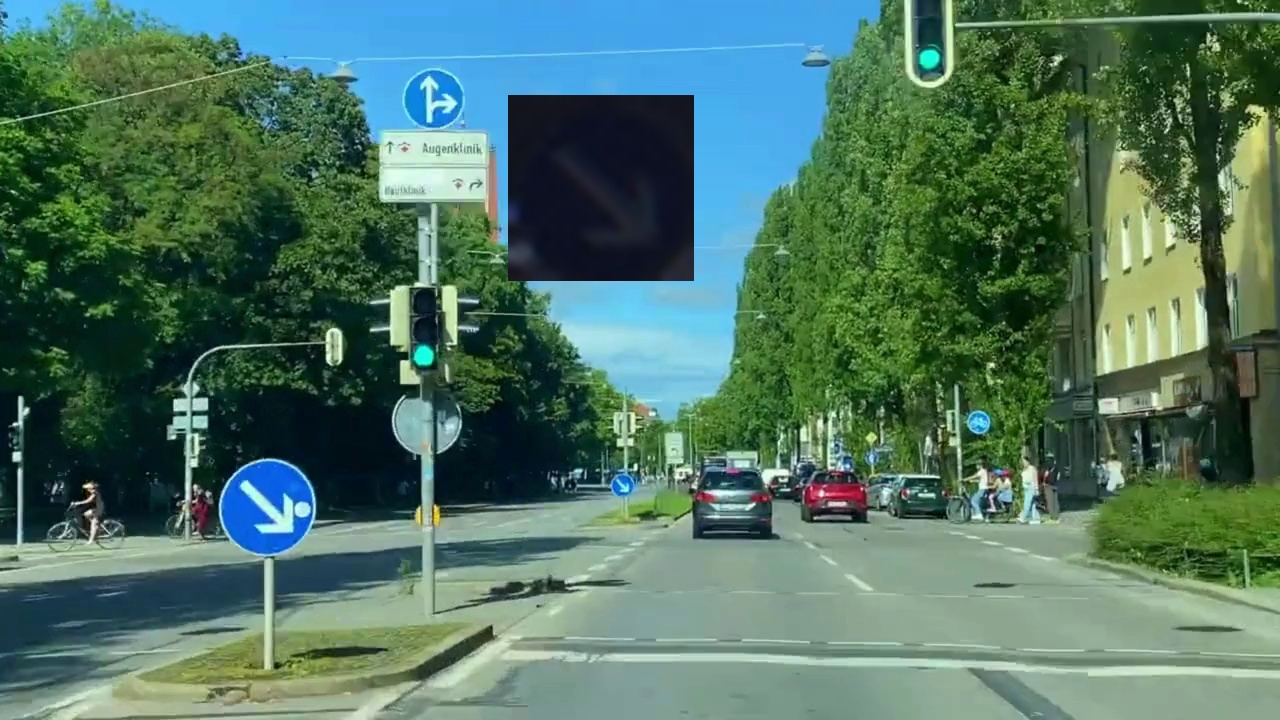Keep right: (508, 95, 694, 281)
